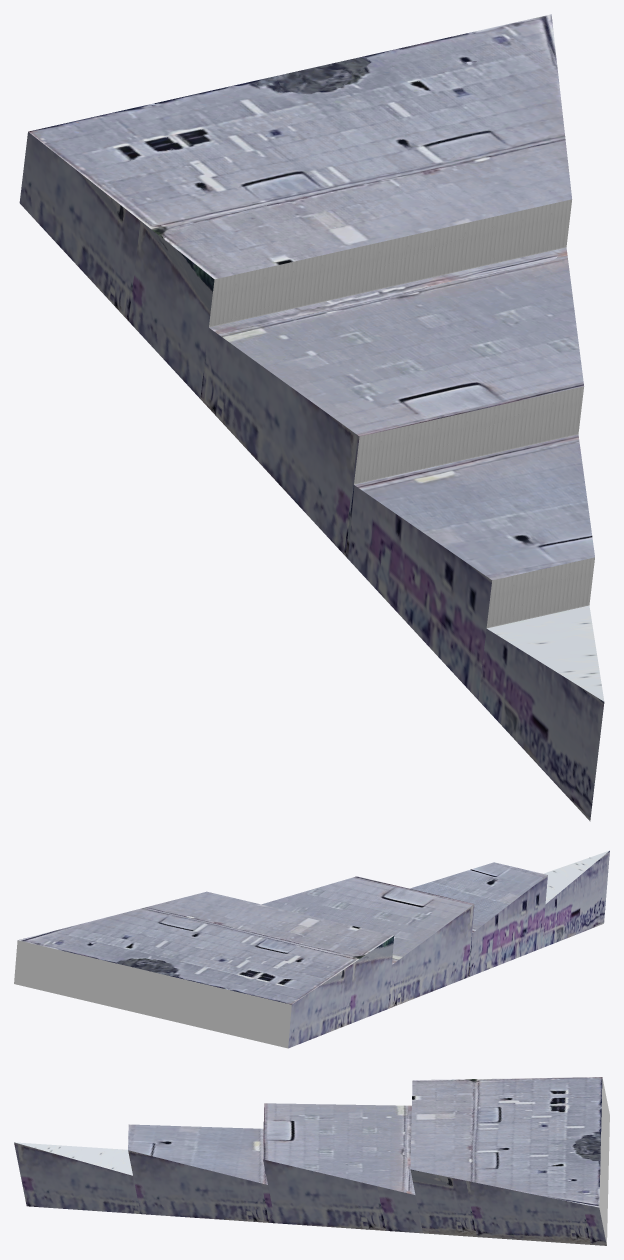
Rendered from Lecu_extralecutriangular.gltf.
3 views of the same model, one above another, from view 1: azimuth 30°, elevation 25°; view 2: azimuth 150°, elevation 25°; view 3: azimuth 270°, elevation 25° (orthographic). The views are drawn at different scales.
Visible parts, largest first — view 1: extralecu2.001; view 2: extralecu2.001; view 3: extralecu2.001.
Part boxes in pixels (left/top/right/bottom): extralecu2.001: left=19, top=14, right=604, bottom=821; extralecu2.001: left=14, top=850, right=609, bottom=1048; extralecu2.001: left=14, top=1077, right=609, bottom=1245.
Bounding box in the file's own units: 40.2 × 19.08 × 77.71.
